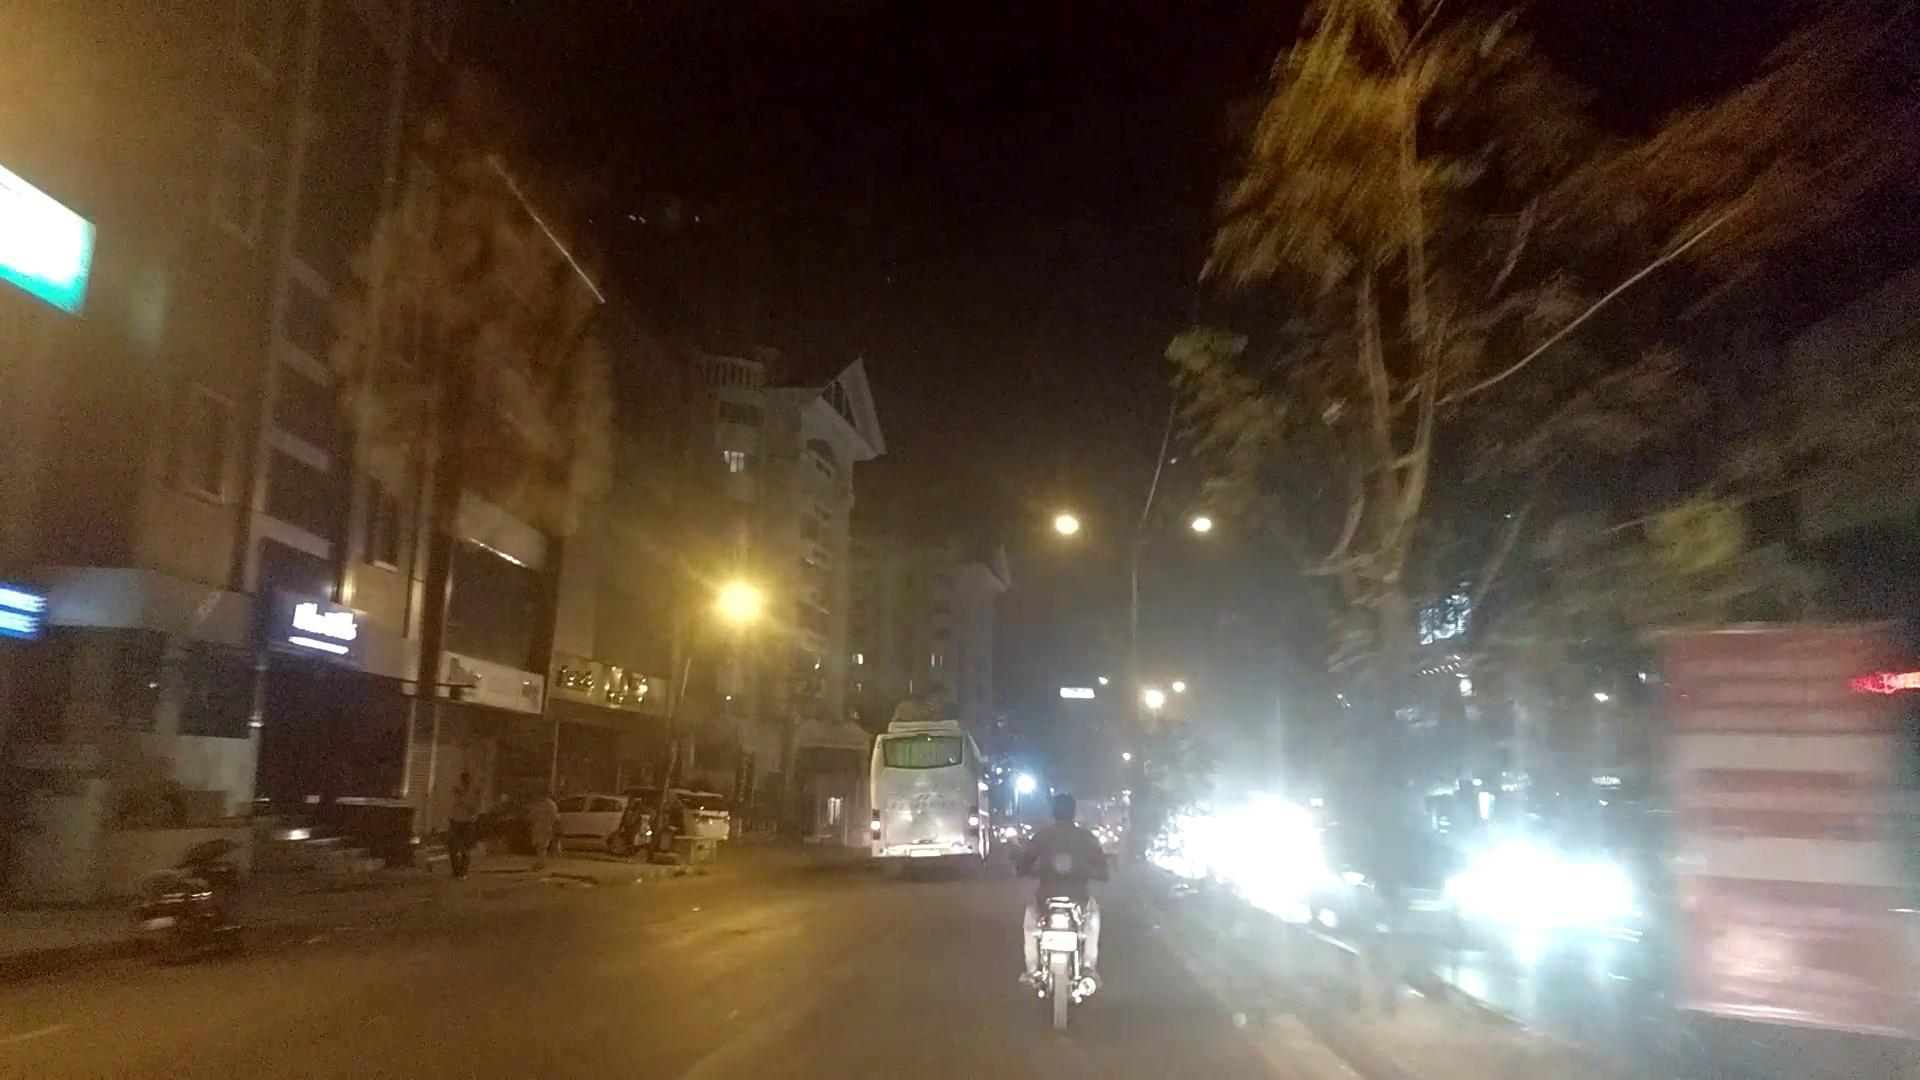on: (620, 262, 855, 819), (930, 402, 1319, 579)
